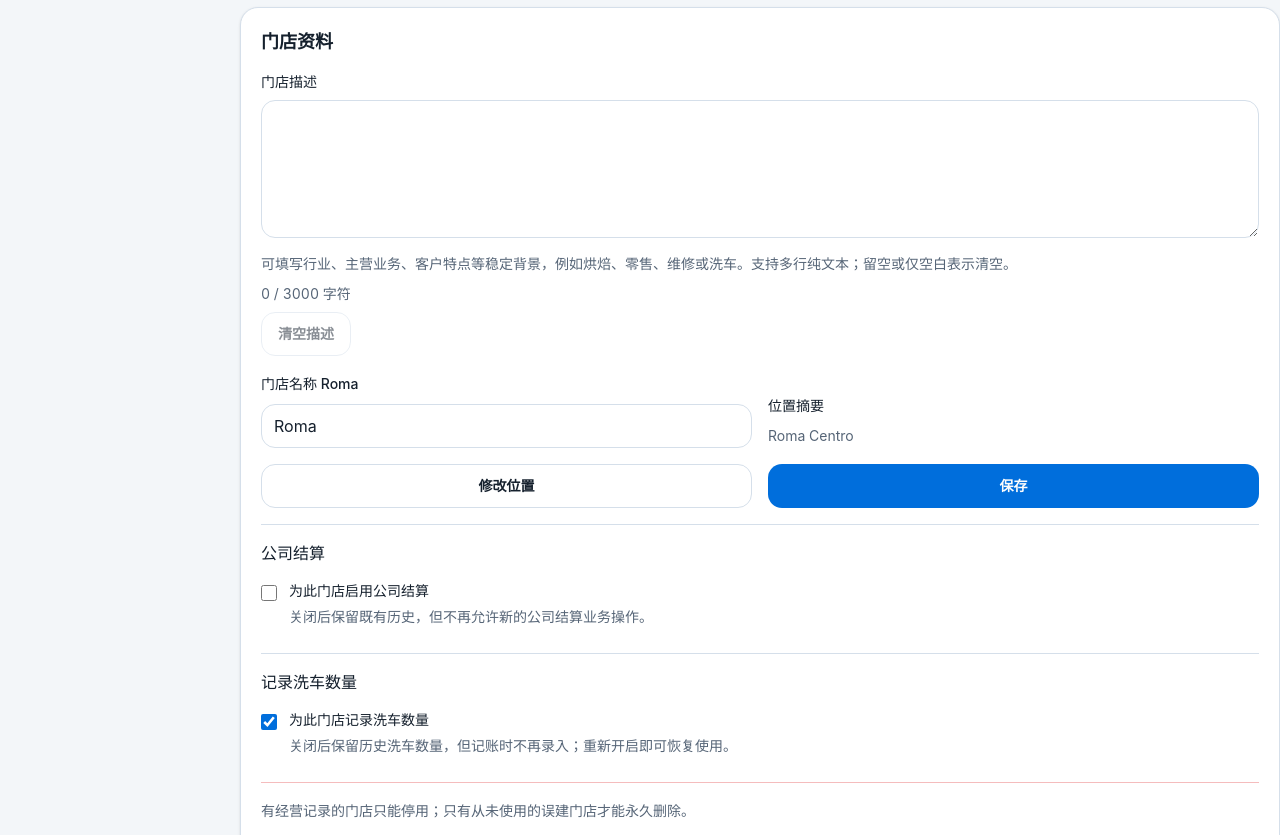
Test case: saves the company settlement switch only for the selected store
(page scrolled)
Click the checkbox labelled "为此门店启用公司结算 关闭后保留既有历史，但不再允许新的公司结算业务操作。": [269, 593] box [261,585,277,601]
(page scrolled)
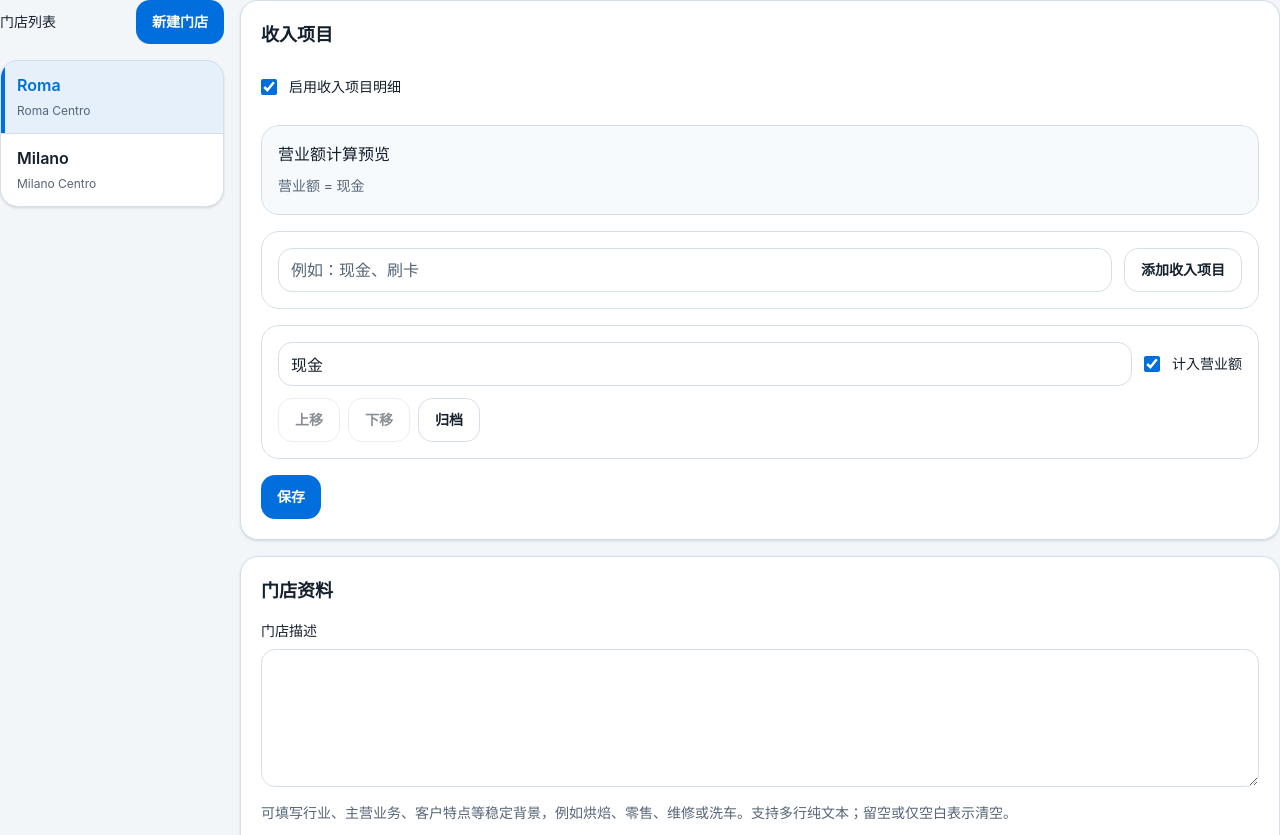
Click the button "Milano Milano Centro": [112, 170] box [1,134,223,206]
(page scrolled)
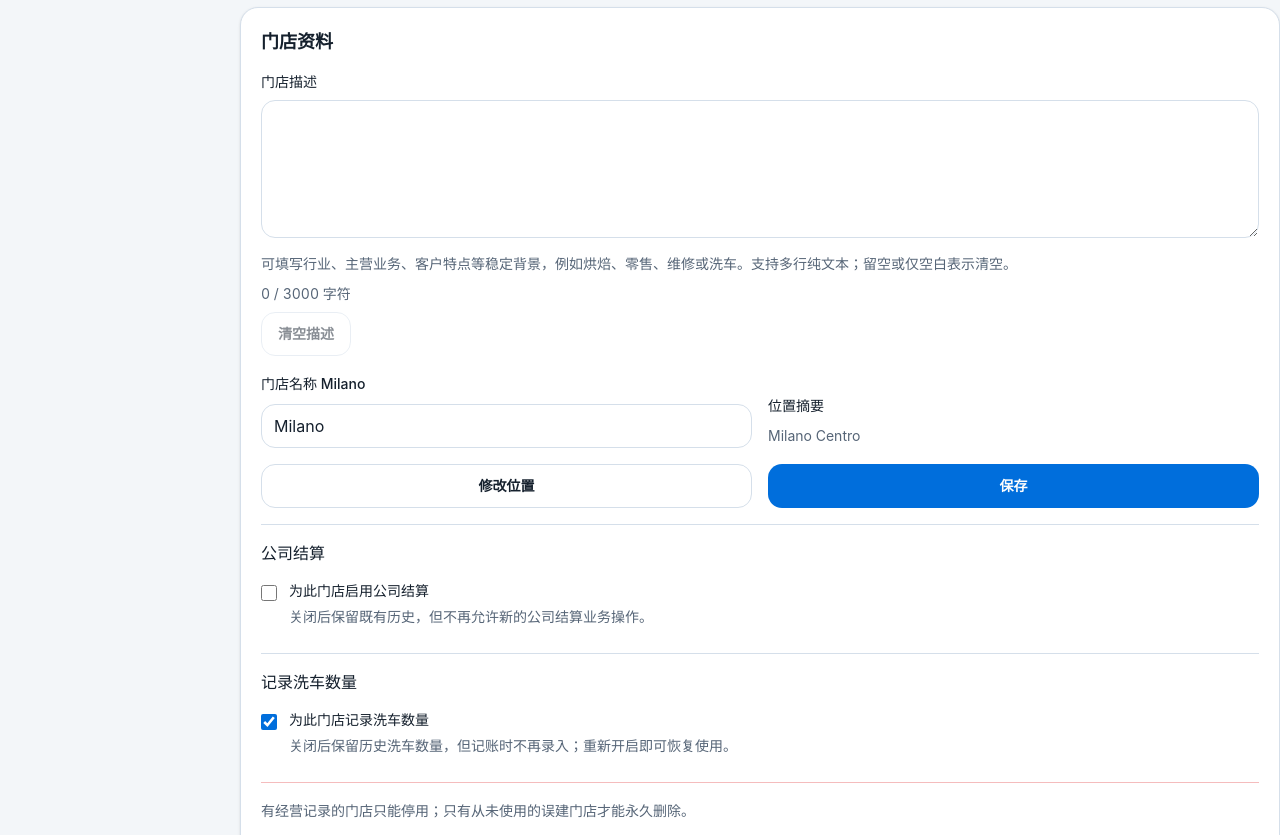
Result: the checkbox labelled "为此门店启用公司结算 关闭后保留既有历史，但不再允许新的公司结算业务操作。" is not checked at [261,585,277,601]
